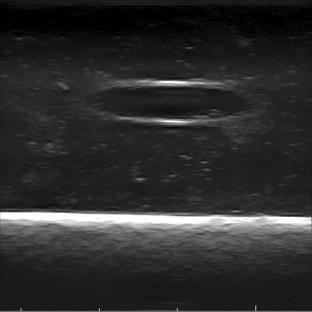vessel: (85, 79, 255, 127)
